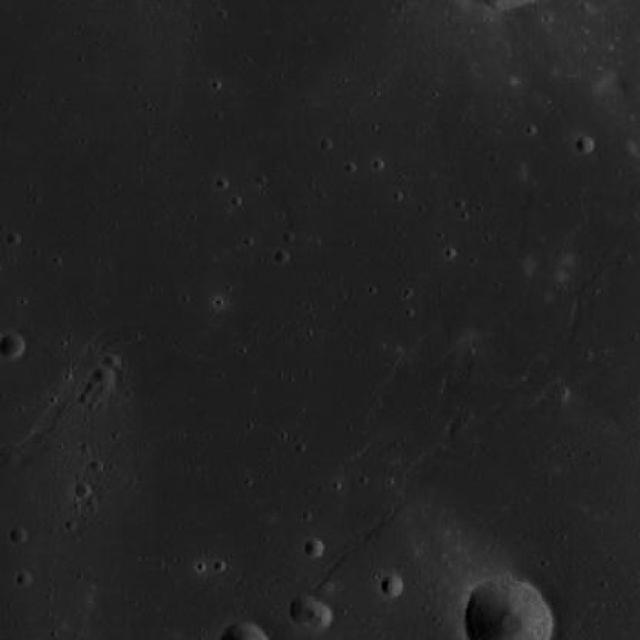crater: (288, 594, 320, 626), (0, 333, 25, 361), (306, 604, 332, 630), (380, 573, 402, 596), (304, 538, 322, 557), (93, 364, 112, 382), (9, 526, 26, 543), (17, 570, 34, 586), (576, 136, 592, 152), (73, 483, 89, 499), (101, 353, 117, 369)
